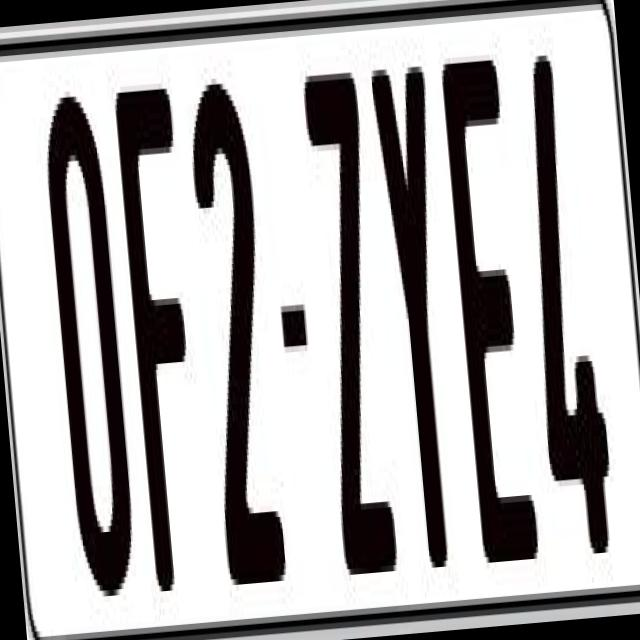0: (36, 78, 138, 616)
2: (182, 75, 291, 586)
4: (512, 52, 626, 586)
E: (440, 54, 545, 562)
F: (110, 76, 212, 592)
Y: (370, 53, 474, 586)
Z: (299, 54, 399, 580)
